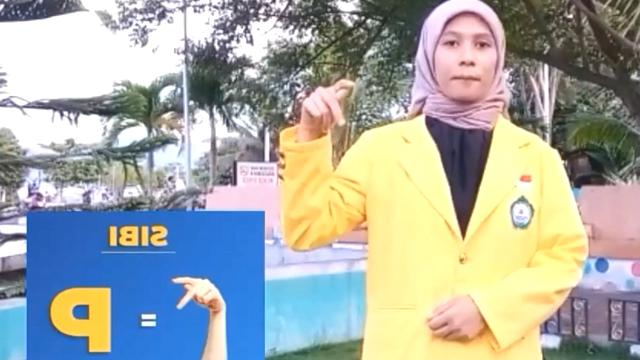P: (290, 73, 354, 143), (168, 272, 226, 320)
